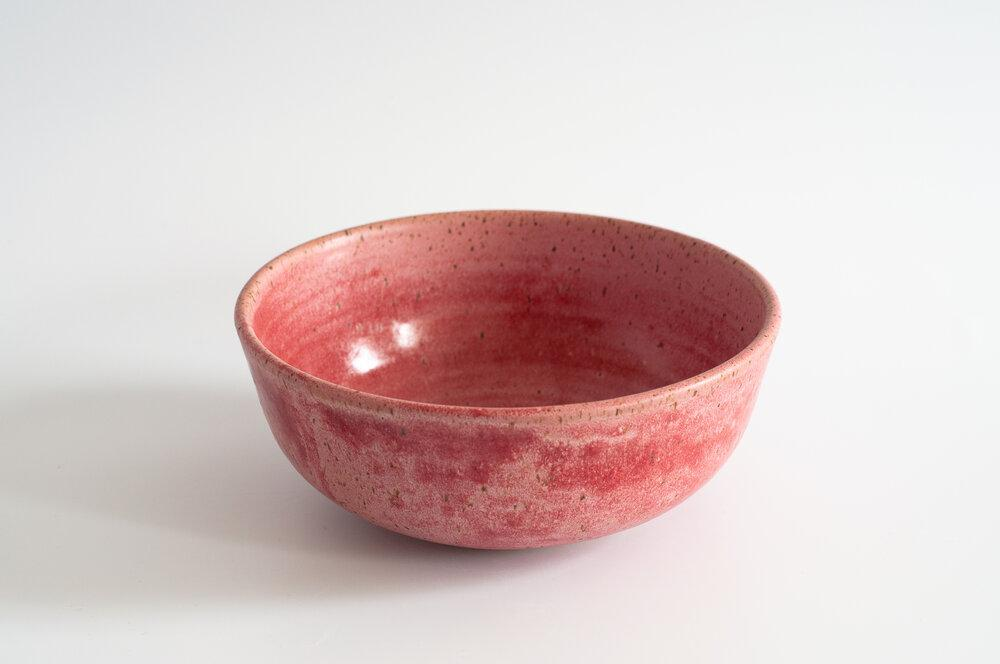bowl: (230, 204, 777, 552)
